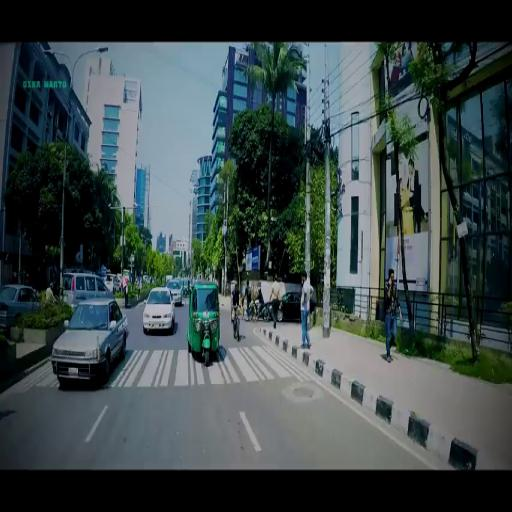bicycle: (249, 299, 270, 321), (232, 308, 242, 341)
car: (50, 295, 129, 383), (1, 284, 44, 327), (142, 286, 175, 329), (269, 292, 303, 320), (167, 279, 182, 305)
minivan: (63, 271, 111, 300)
three wheelers (CNG): (188, 279, 223, 366)
